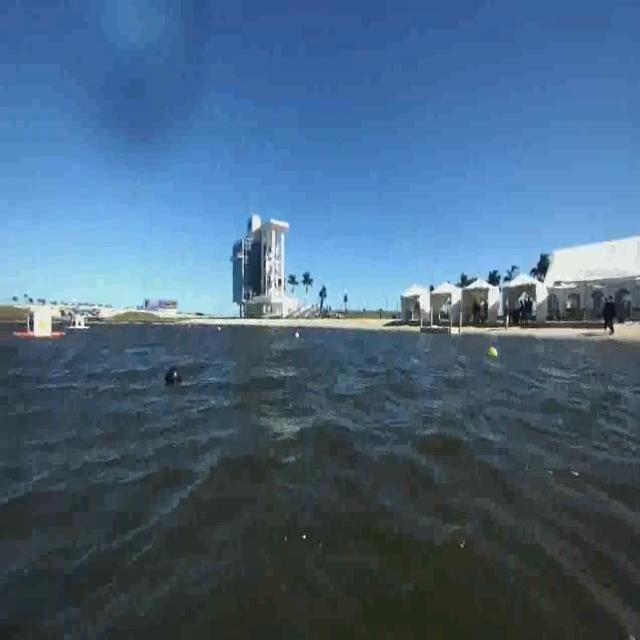black-buoy: (166, 367, 183, 386)
yellow-buoy: (489, 346, 498, 360)
